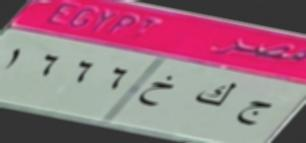1: (3, 45, 28, 70)
6: (35, 46, 65, 80), (67, 55, 97, 88), (106, 63, 130, 92)
jeem: (238, 94, 274, 134)
kaaf: (193, 77, 236, 109)
khaa: (137, 72, 179, 115)
